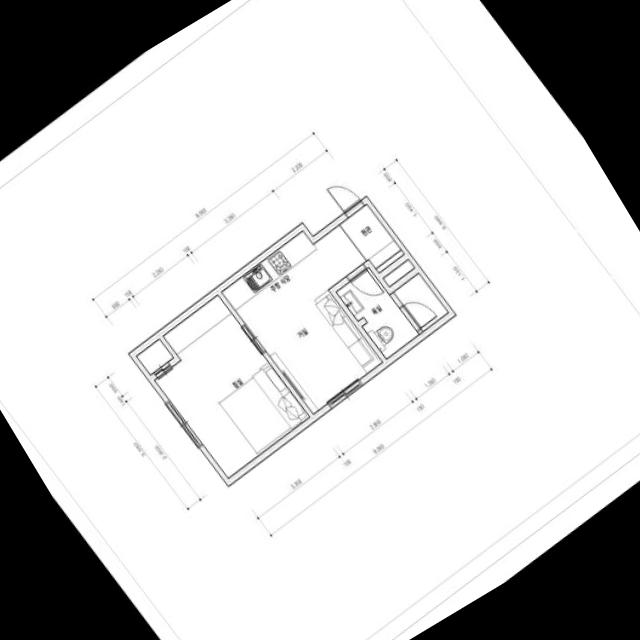background: (0, 0, 640, 640)
space_bedroom: (154, 295, 309, 478)
space_front: (339, 204, 404, 272)
space_kitchen: (221, 231, 331, 329)
space_living_room: (249, 225, 382, 414)
space_other: (393, 273, 448, 331), (136, 339, 173, 374), (383, 259, 414, 286)
space_toilet: (336, 267, 418, 358)
